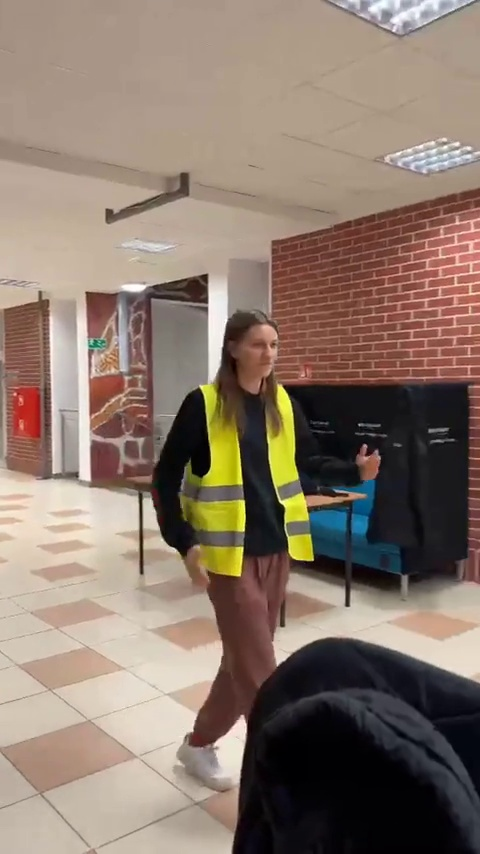vest: (153, 304, 390, 792)
